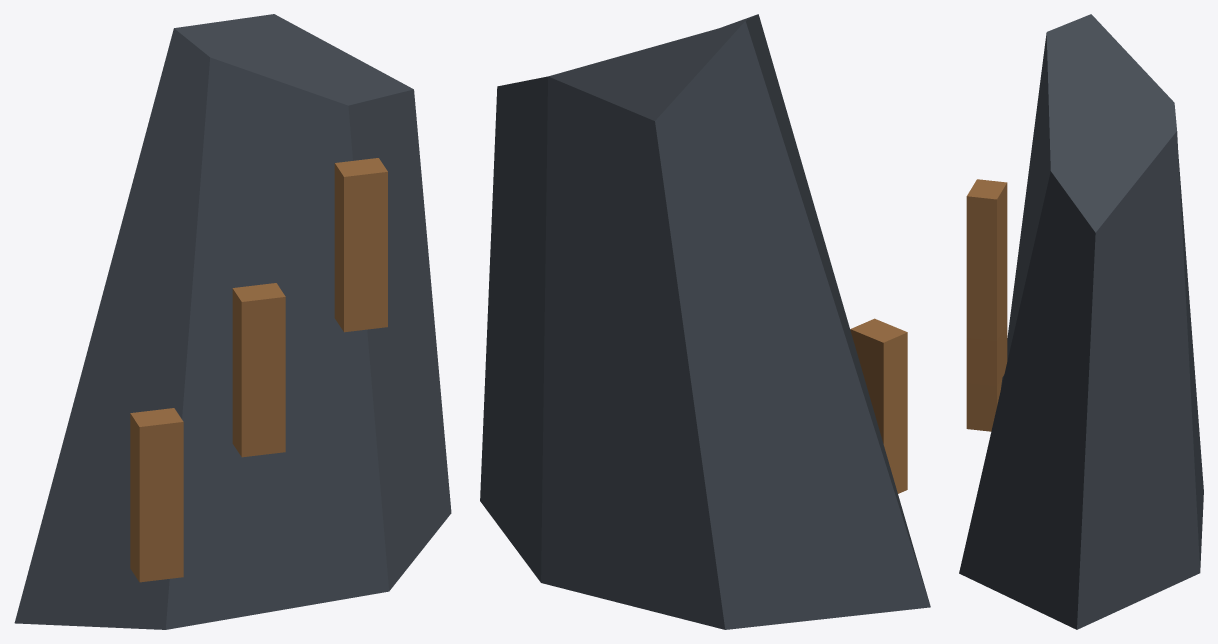
Rendered from map-boundaries-v5__iron_05.glb.
The picture shows the model from 3 angles, left to right: view 1: azimuth 30°, elevation 25°; view 2: azimuth 150°, elevation 25°; view 3: azimuth 270°, elevation 25°; orthographic projection. The views are drawn at different scales.
Parts seen in each view (by area): view 1: iron_05; view 2: iron_05; view 3: iron_05.
Part boxes in pixels (x1=…): iron_05: x1=14, y1=14, x2=451, y2=629; iron_05: x1=480, y1=14, x2=930, y2=629; iron_05: x1=959, y1=14, x2=1203, y2=629.
Size of the model in its own units: 1.34 by 1.58 by 0.7065.
